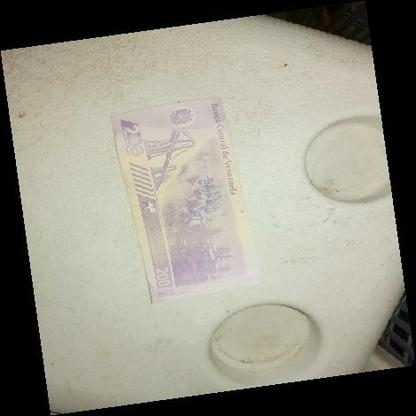two_hundred-back-vef: (108, 95, 264, 306)
